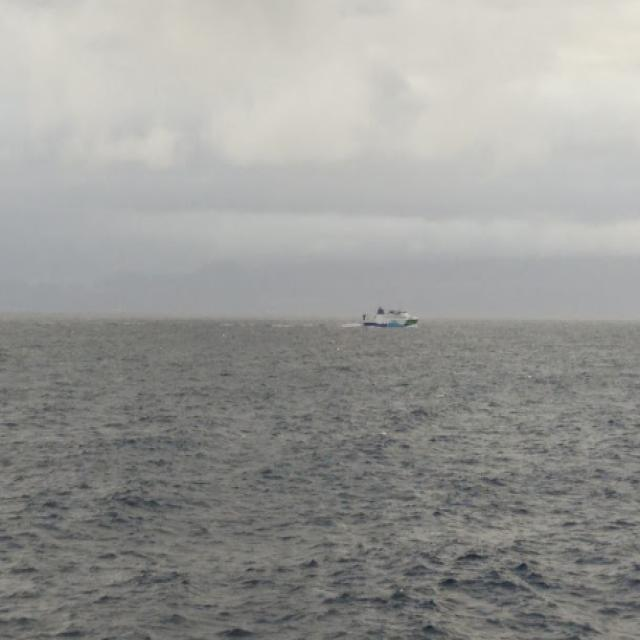houseboat: (362, 305, 418, 326)
